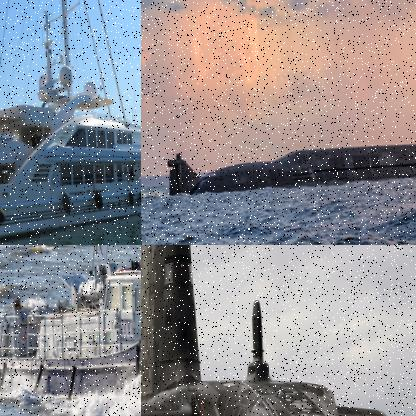Patrol Boat: (0, 245, 140, 415)
Submarine: (141, 245, 394, 415), (164, 70, 415, 196)
Yacht: (0, 0, 140, 244)
